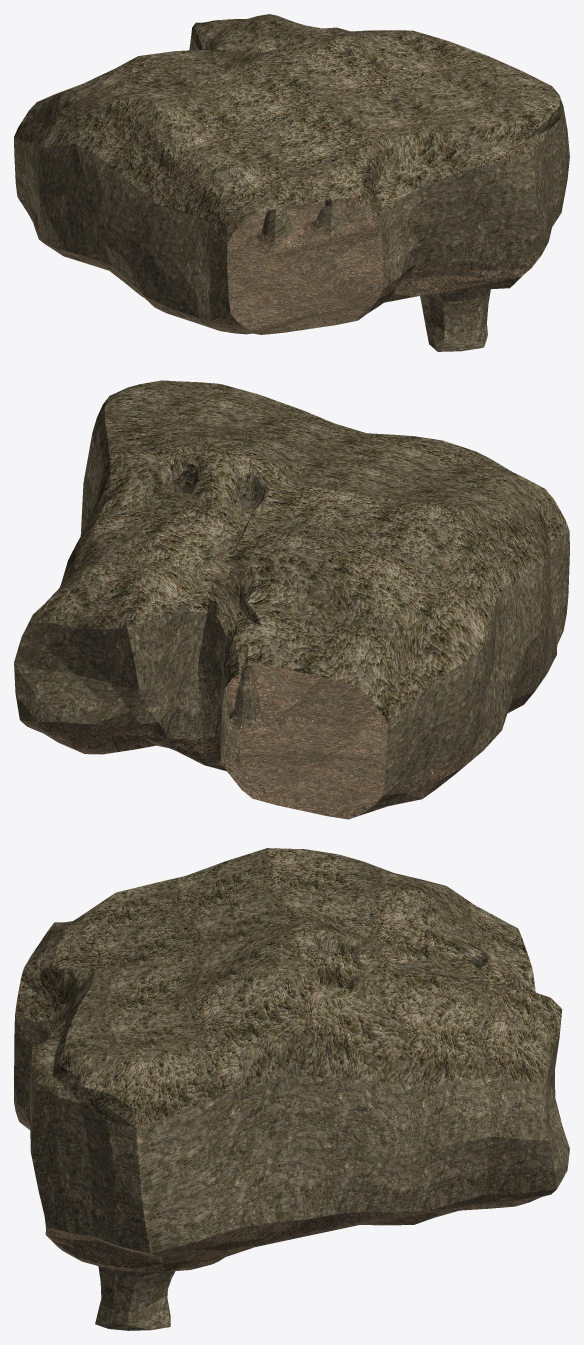
Rendered from thm_tato_fort_tusken_r10_mesh_r10.fbx.
The picture shows the model from 3 angles, top to bottom: view 1: azimuth 30°, elevation 25°; view 2: azimuth 150°, elevation 25°; view 3: azimuth 270°, elevation 25°; orthographic projection. The views are drawn at different scales.
Parts seen in each view (by area): view 1: mesh_node; view 2: mesh_node; view 3: mesh_node.
Part boxes in pixels (<box>): mesh_node: <box>14,14,569,351</box>; mesh_node: <box>14,380,569,819</box>; mesh_node: <box>14,848,569,1330</box>.
Size of the model in its own units: 30.32 by 18.07 by 27.36.
